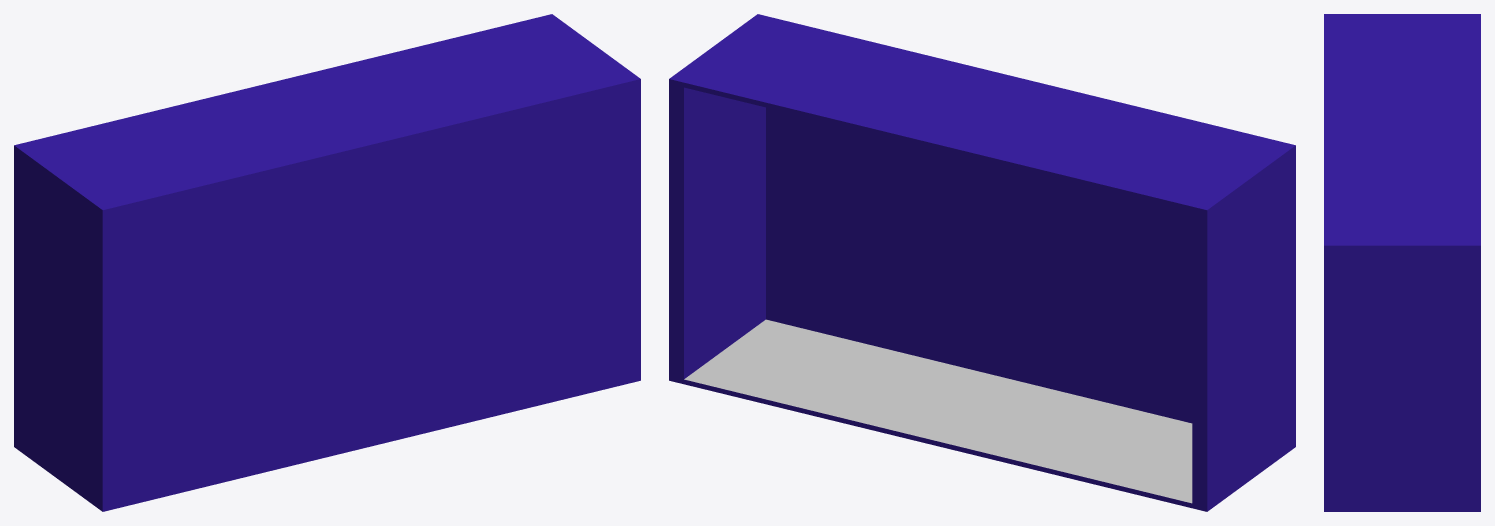
Rendered from ArenaTry.dae.
The picture shows the model from 3 angles, left to right: view 1: azimuth 30°, elevation 25°; view 2: azimuth 150°, elevation 25°; view 3: azimuth 270°, elevation 25°; orthographic projection. The views are drawn at different scales.
Visible parts, largest first — view 1: ArenaWallsandFloor_002; view 2: ArenaWallsandFloor_002; view 3: ArenaWallsandFloor_002.
Part boxes in pixels (box(x1,y1,x2,y2)): ArenaWallsandFloor_002: box(14, 14, 640, 511); ArenaWallsandFloor_002: box(669, 14, 1295, 511); ArenaWallsandFloor_002: box(1324, 14, 1480, 511).
Size of the model in its own units: 28 by 8 by 15.
